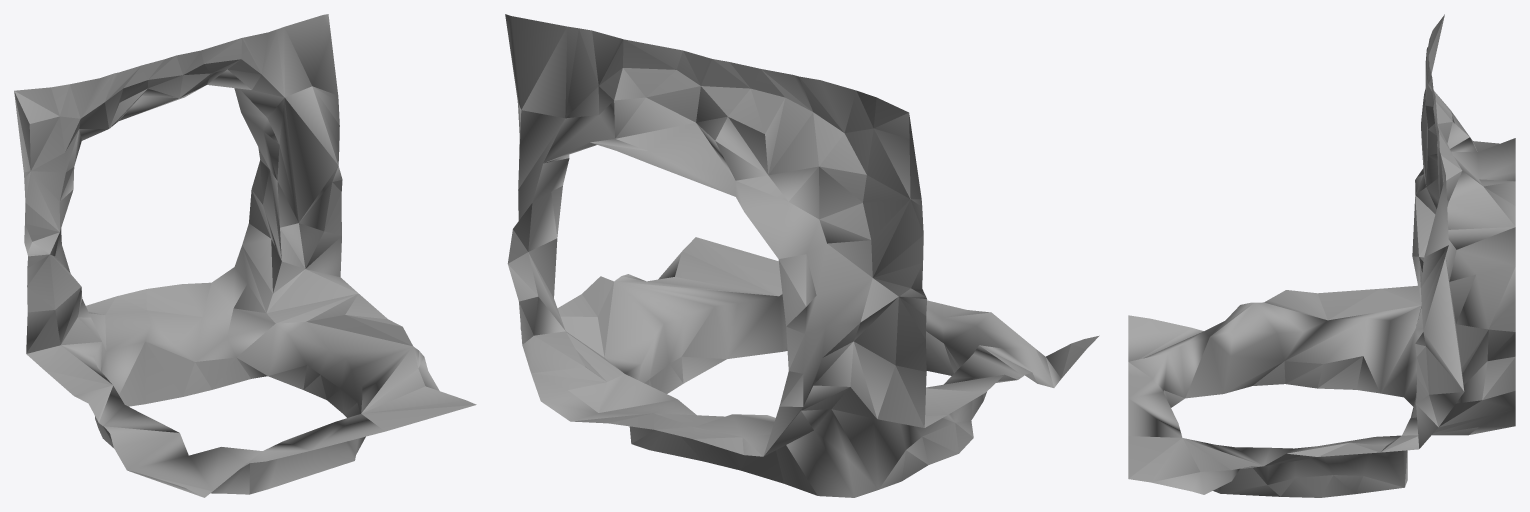
The model's file is WallFloorTunnelEntrance3.fbx.
3 views of the same model, side by side, from view 1: azimuth 30°, elevation 25°; view 2: azimuth 150°, elevation 25°; view 3: azimuth 270°, elevation 25° (orthographic). The views are drawn at different scales.
Visible parts, largest first — view 1: WallFloorTunnelEntrance3; view 2: WallFloorTunnelEntrance3; view 3: WallFloorTunnelEntrance3.
Part boxes in pixels (x1,y1,x2,y2): WallFloorTunnelEntrance3: (14,14,476,497); WallFloorTunnelEntrance3: (505,14,1099,497); WallFloorTunnelEntrance3: (1128,14,1515,497).
Bounding box in the file's own units: 500 × 500 × 500.
